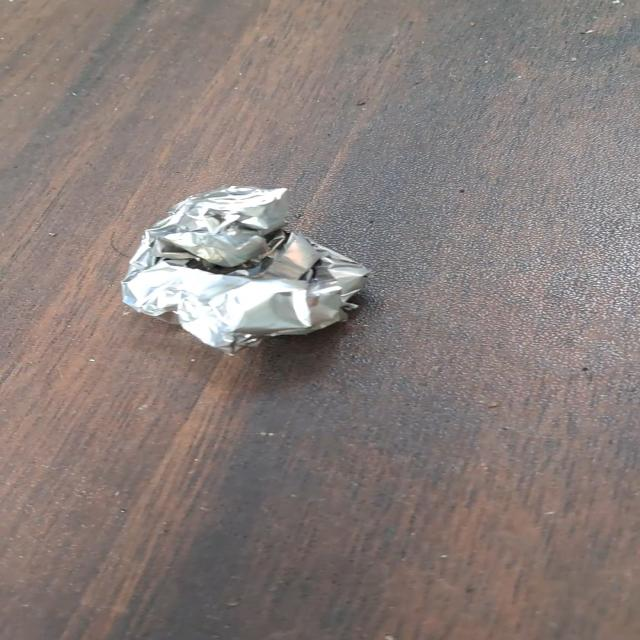Anorganik: (104, 178, 382, 354)
